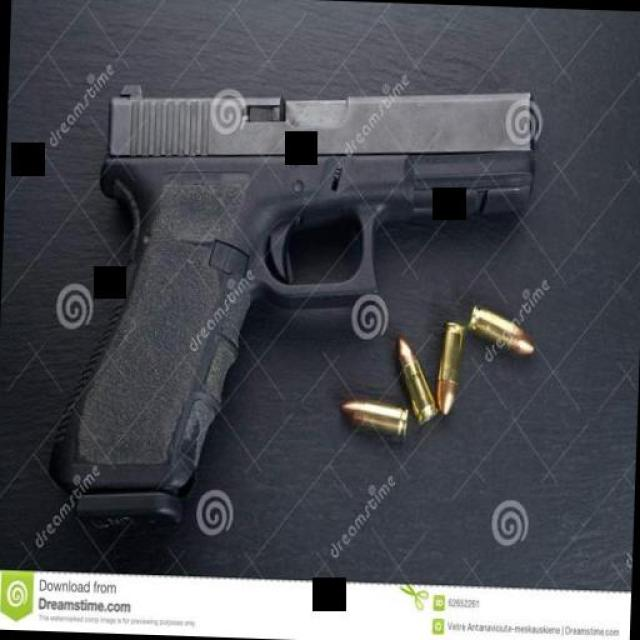gun: (46, 70, 532, 530)
